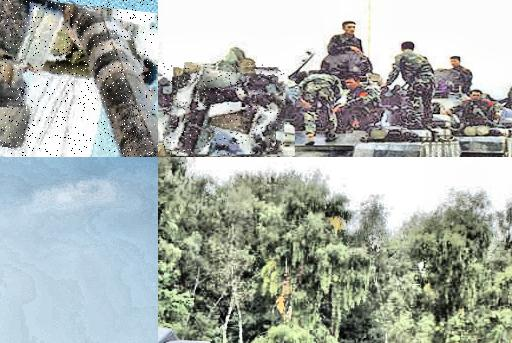tanks: (1, 1, 159, 158), (165, 64, 288, 155), (199, 49, 306, 130), (292, 121, 462, 158), (434, 92, 512, 158)
